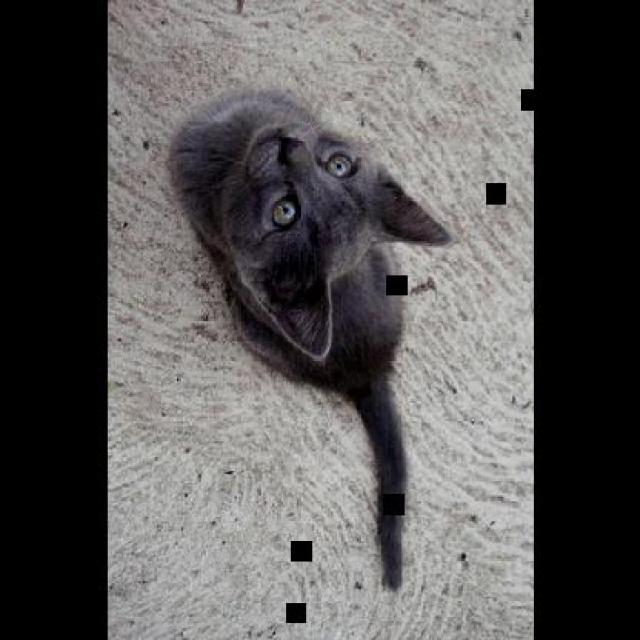unauthorized: (166, 86, 452, 591)
